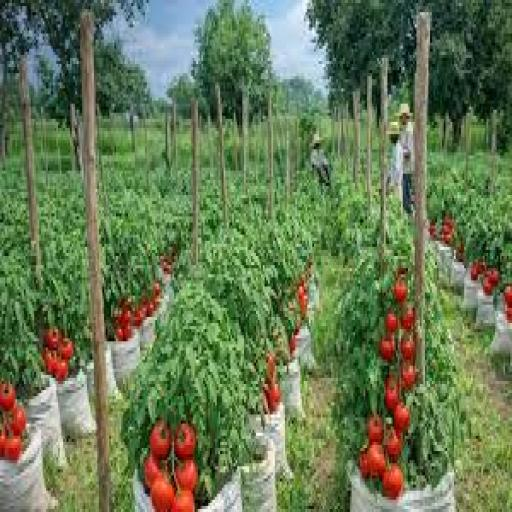tomato: (151, 421, 172, 460), (151, 479, 175, 511), (175, 424, 196, 460), (175, 461, 197, 493), (383, 464, 402, 499), (367, 442, 385, 478), (144, 455, 162, 490), (384, 427, 402, 460), (384, 378, 399, 411), (4, 436, 22, 463), (11, 406, 27, 435), (267, 381, 281, 414), (173, 491, 194, 511), (379, 336, 395, 362), (367, 415, 383, 441), (395, 403, 409, 432), (0, 384, 15, 411), (402, 363, 416, 390), (59, 339, 75, 362), (400, 339, 416, 362), (297, 284, 308, 316), (43, 351, 58, 374), (393, 281, 407, 304), (386, 311, 399, 335), (55, 360, 68, 383), (402, 308, 414, 332), (359, 452, 370, 478), (45, 330, 59, 350), (289, 327, 298, 356), (267, 354, 276, 380), (120, 308, 131, 329), (135, 308, 145, 329), (489, 269, 500, 286), (289, 336, 298, 356), (0, 430, 6, 460), (483, 278, 493, 295), (470, 263, 479, 280), (123, 327, 133, 341), (504, 287, 511, 307), (443, 232, 452, 246), (429, 223, 436, 240), (154, 281, 162, 295), (147, 302, 155, 316), (117, 327, 124, 341), (506, 305, 511, 323), (478, 263, 486, 274)
